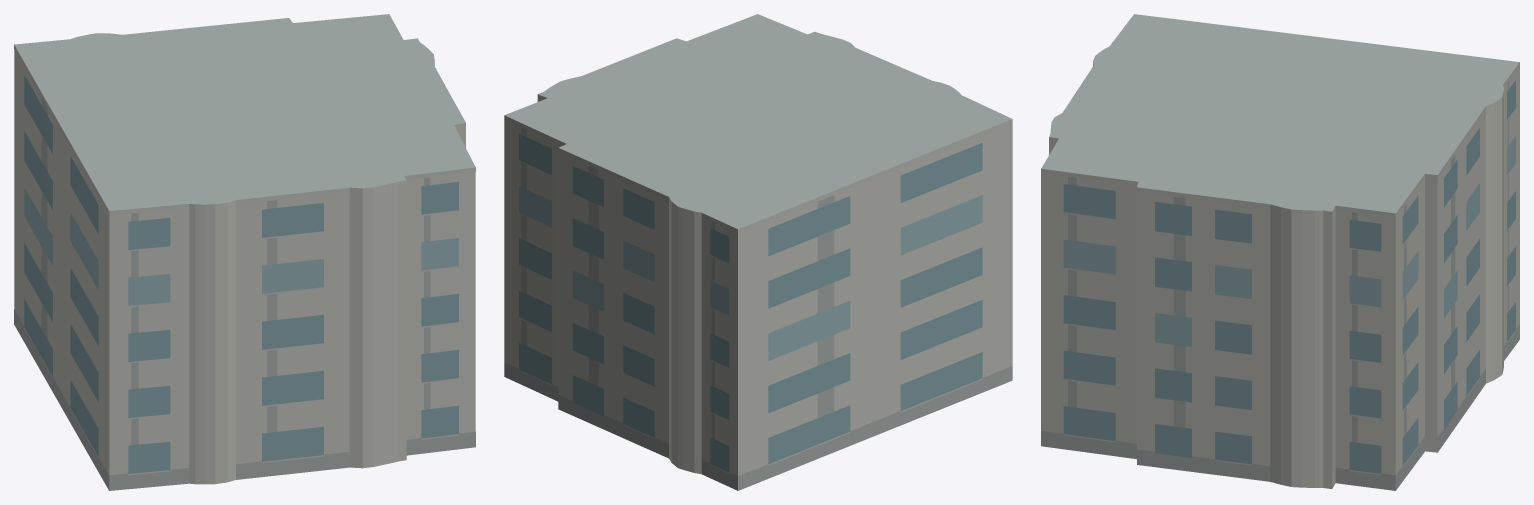
File: survey-upis-32870990.glb
3 renders of one model, left to right at view 1: azimuth 30°, elevation 25°; view 2: azimuth 150°, elevation 25°; view 3: azimuth 270°, elevation 25°, orthographic. The views are drawn at different scales.
Parts seen in each view (by area): view 1: survey-upis-32870990.tmp; view 2: survey-upis-32870990.tmp; view 3: survey-upis-32870990.tmp.
Boxes of the visible parts, left/top/right/bottom form: survey-upis-32870990.tmp: left=14, top=14, right=475, bottom=490; survey-upis-32870990.tmp: left=504, top=14, right=1012, bottom=490; survey-upis-32870990.tmp: left=1041, top=14, right=1519, bottom=490.
Bounding box in the file's own units: 23.12 × 15 × 23.46.
